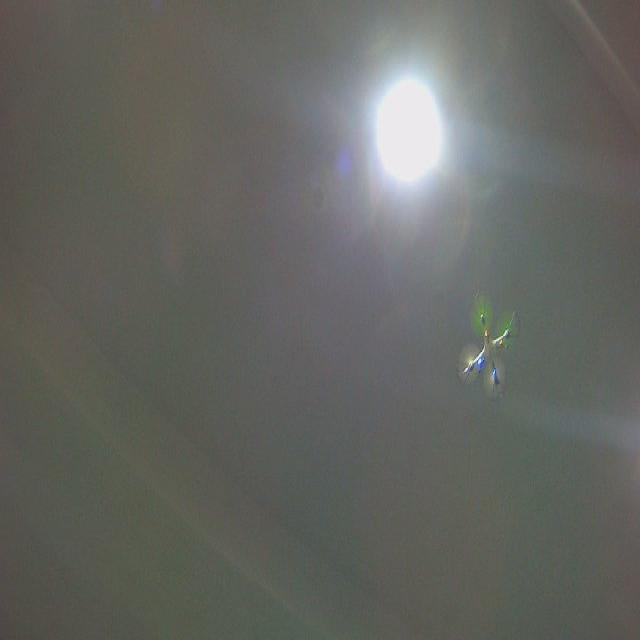drone: (452, 287, 524, 403)
